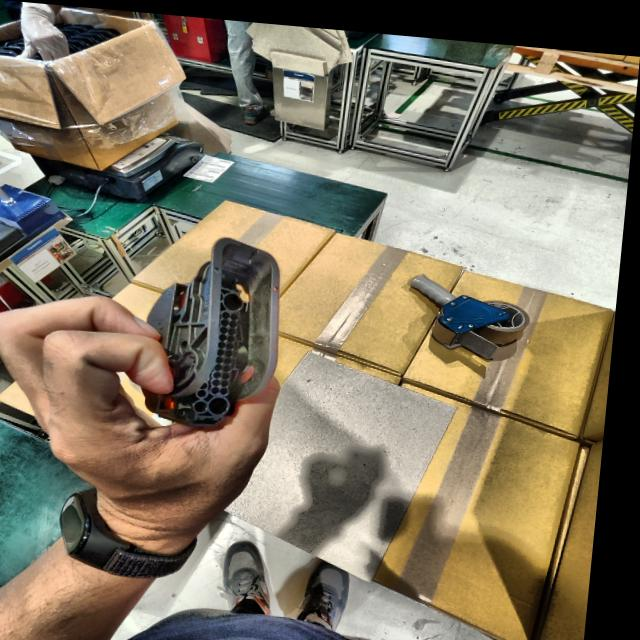P38: (150, 233, 285, 423)
